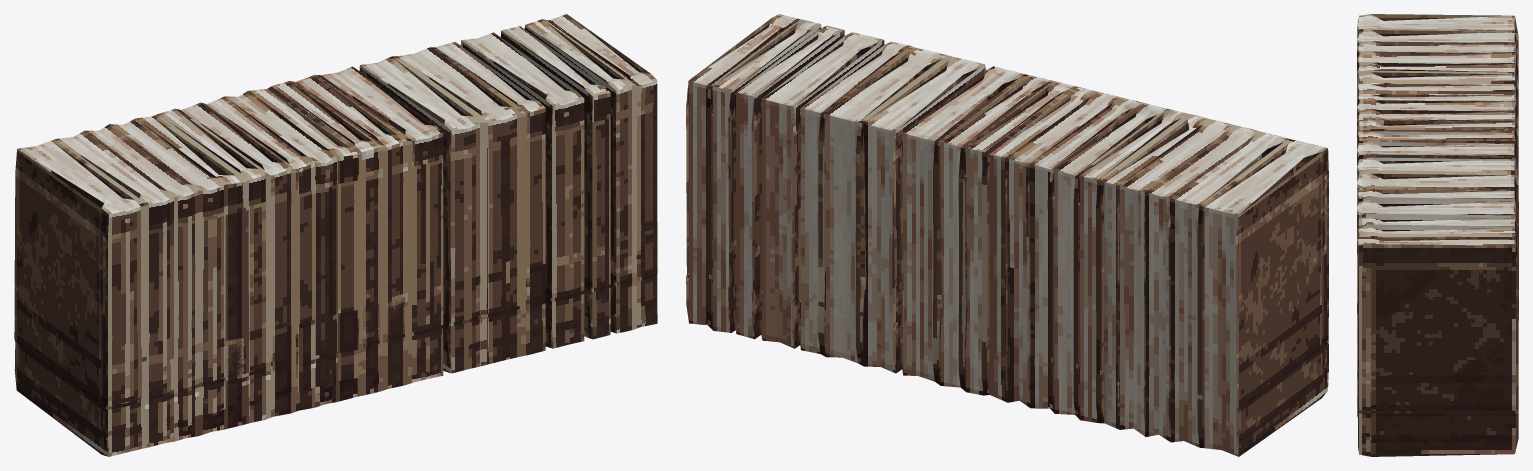
Rendered from books.glb.
3 renders of one model, left to right at view 1: azimuth 30°, elevation 25°; view 2: azimuth 150°, elevation 25°; view 3: azimuth 270°, elevation 25°, orthographic. The views are drawn at different scales.
Parts seen in each view (by area): view 1: mesh; view 2: mesh; view 3: mesh.
Part boxes in pixels (box(x1,y1,x2,y2)): mesh: box(14, 14, 657, 456); mesh: box(686, 14, 1328, 456); mesh: box(1357, 14, 1518, 456).
Size of the model in its own units: 0.5505 by 0.2374 by 0.1633.
1 material, 1 textured.
